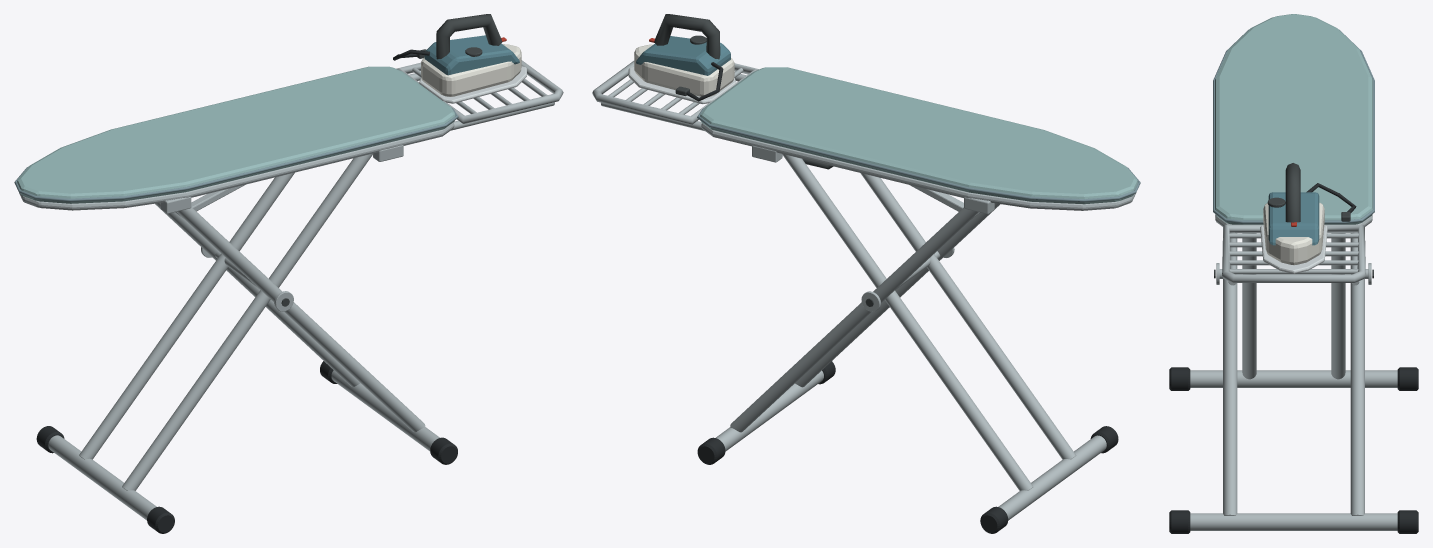
The model's file is city-folding-ironing-board.glb.
3 renders of one model, left to right at view 1: azimuth 30°, elevation 25°; view 2: azimuth 150°, elevation 25°; view 3: azimuth 270°, elevation 25°, orthographic. The views are drawn at different scales.
Visible parts, largest first — view 1: Assembly | Desaturated teal ironing cover, Assembly | Satin structural steel, Assembly | Warm white appliance enamel, Assembly | Muted blue machine enamel, Assembly | Graphite rubber and grips, Assembly | Folded fabric seam binding, Assembly | Dark mechanical housings, Assembly | Satin stainless drum and hardware; view 2: Assembly | Desaturated teal ironing cover, Assembly | Satin structural steel, Assembly | Warm white appliance enamel, Assembly | Muted blue machine enamel, Assembly | Graphite rubber and grips, Assembly | Dark mechanical housings, Assembly | Folded fabric seam binding, Assembly | Satin stainless drum and hardware; view 3: Assembly | Desaturated teal ironing cover, Assembly | Satin structural steel, Assembly | Graphite rubber and grips, Assembly | Muted blue machine enamel, Assembly | Warm white appliance enamel, Assembly | Dark mechanical housings, Assembly | Folded fabric seam binding, Assembly | Satin stainless drum and hardware.
Boxes of the visible parts, <box> form: Assembly | Desaturated teal ironing cover: <box>17,66,455,203</box>; Assembly | Satin structural steel: <box>19,60,563,520</box>; Assembly | Warm white appliance enamel: <box>421,44,521,96</box>; Assembly | Muted blue machine enamel: <box>424,35,519,75</box>; Assembly | Graphite rubber and grips: <box>36,49,457,533</box>; Assembly | Folded fabric seam binding: <box>14,107,458,201</box>; Assembly | Dark mechanical housings: <box>281,14,502,306</box>; Assembly | Satin stainless drum and hardware: <box>419,66,526,103</box>; Assembly | Desaturated teal ironing cover: <box>700,67,1137,204</box>; Assembly | Satin structural steel: <box>592,61,1135,520</box>; Assembly | Warm white appliance enamel: <box>634,44,734,96</box>; Assembly | Muted blue machine enamel: <box>636,36,730,75</box>; Assembly | Graphite rubber and grips: <box>686,62,1118,533</box>; Assembly | Dark mechanical housings: <box>654,14,873,306</box>; Assembly | Folded fabric seam binding: <box>697,108,1140,201</box>; Assembly | Satin stainless drum and hardware: <box>628,67,736,104</box>; Assembly | Desaturated teal ironing cover: <box>1215,14,1372,224</box>; Assembly | Satin structural steel: <box>1190,214,1397,530</box>; Assembly | Graphite rubber and grips: <box>1169,183,1418,533</box>; Assembly | Muted blue machine enamel: <box>1268,192,1319,245</box>; Assembly | Warm white appliance enamel: <box>1263,202,1324,265</box>; Assembly | Dark mechanical housings: <box>1214,163,1373,278</box>; Assembly | Folded fabric seam binding: <box>1213,29,1374,223</box>; Assembly | Satin stainless drum and hardware: <box>1260,225,1327,273</box>.
Size of the model in its own units: 1.46 by 1.05 by 0.59.
